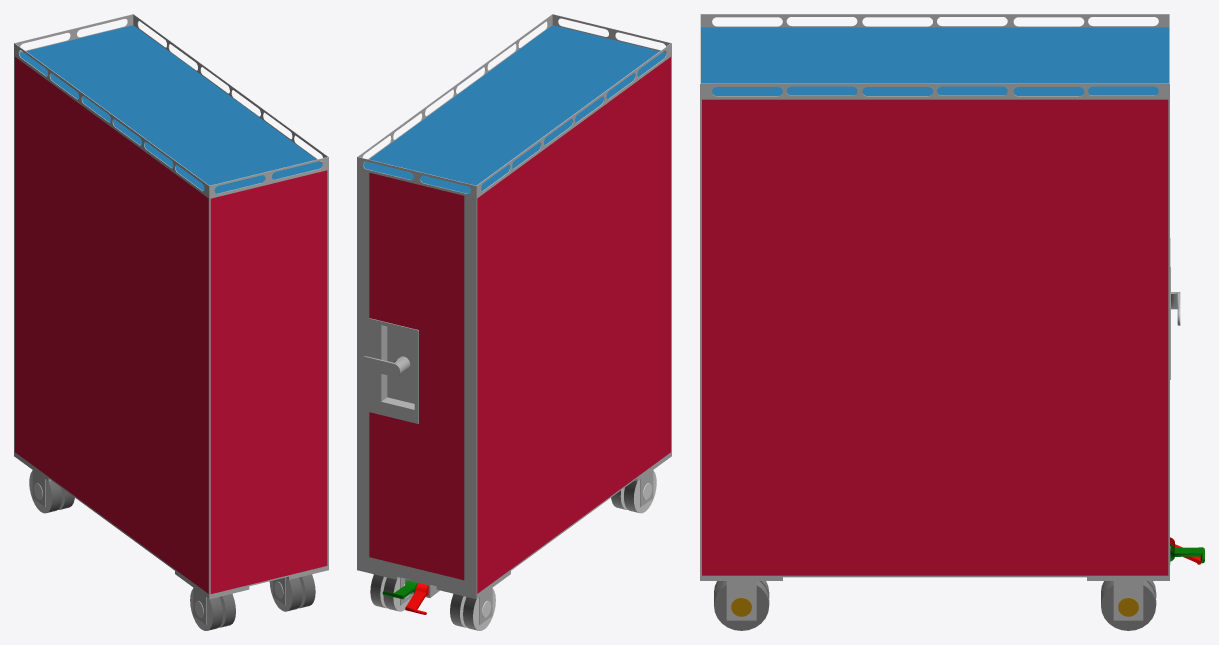
The model's file is Cabin Trolley.glb.
3 views of the same model, side by side, from view 1: azimuth 30°, elevation 25°; view 2: azimuth 150°, elevation 25°; view 3: azimuth 270°, elevation 25° (orthographic). The views are drawn at different scales.
Parts seen in each view (by area): view 1: Sketchup; view 2: Sketchup; view 3: Sketchup.
Boxes of the visible parts, left/top/right/bottom form: Sketchup: left=14, top=14, right=328, bottom=630; Sketchup: left=357, top=14, right=671, bottom=630; Sketchup: left=700, top=14, right=1204, bottom=630.
Size of the model in its own units: 0.3048 by 1.12 by 0.9277.
